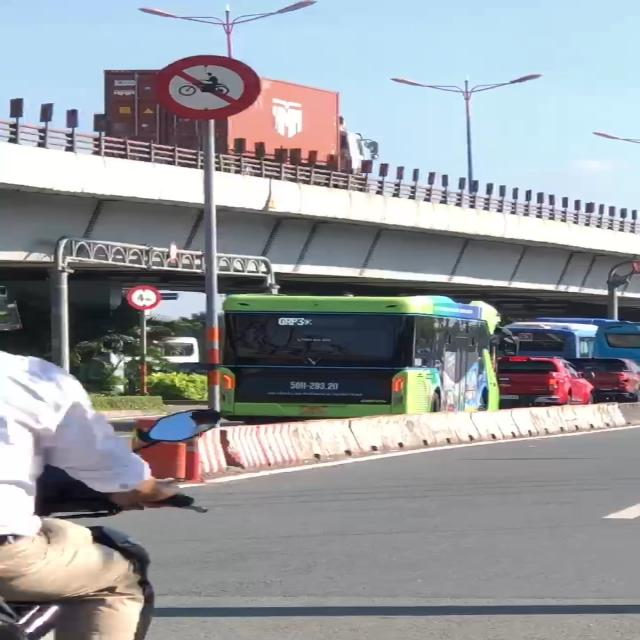Bien bao cam xe may: (147, 52, 266, 125)
